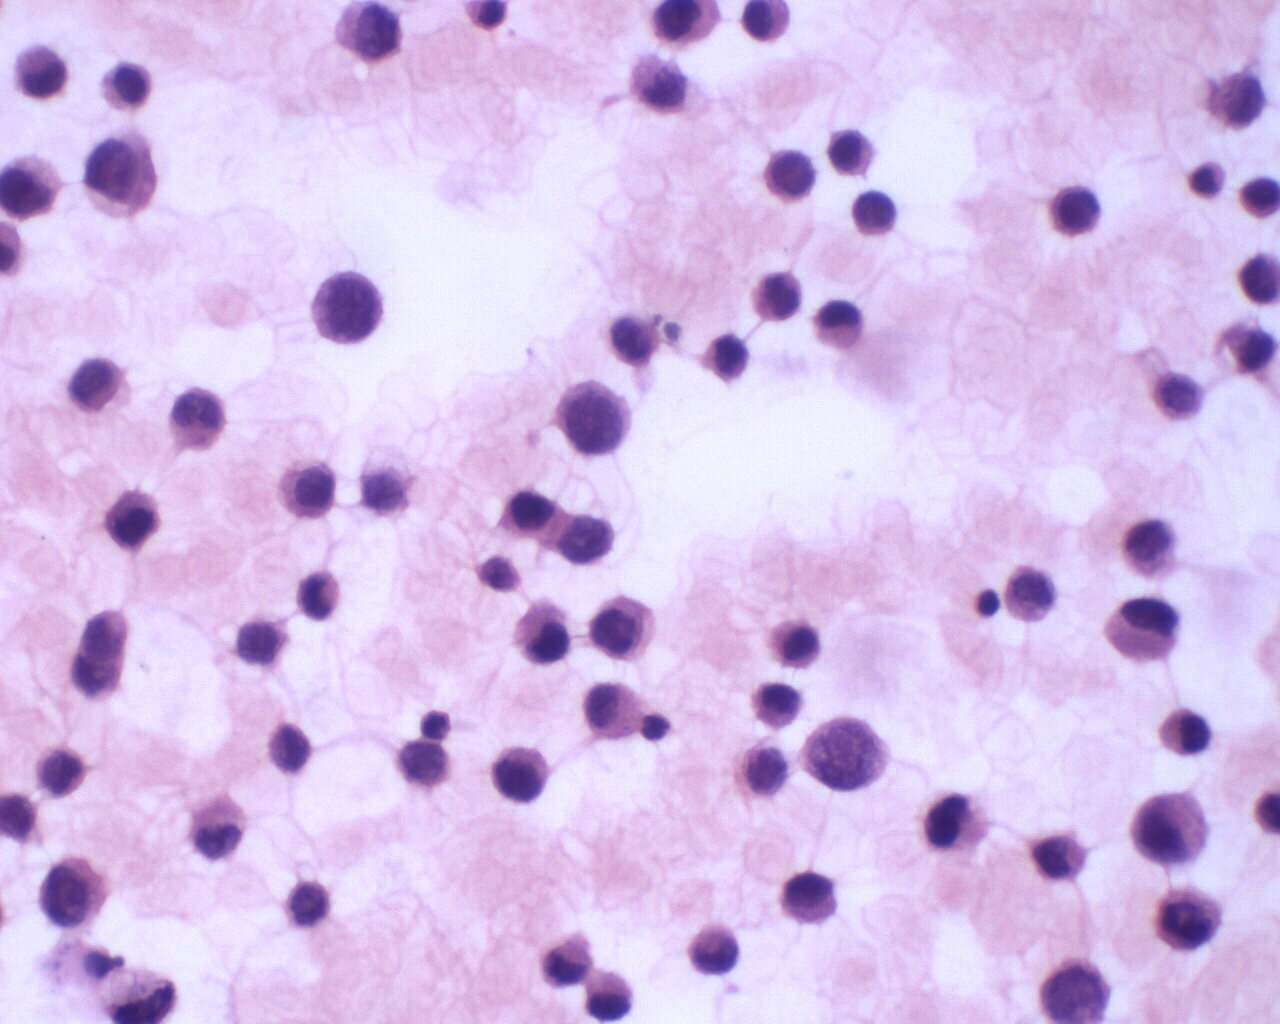ab: (80, 129, 163, 223), (555, 380, 636, 462), (309, 270, 393, 349), (38, 850, 115, 929), (581, 589, 659, 662), (1153, 879, 1225, 954), (488, 741, 557, 812), (328, 2, 405, 65), (168, 385, 233, 456), (1, 153, 63, 225), (98, 485, 163, 553), (276, 453, 339, 522), (775, 865, 843, 927), (65, 355, 132, 415), (1048, 180, 1106, 241), (822, 126, 884, 181), (763, 148, 818, 203), (850, 189, 902, 241)
lymph: (974, 585, 1005, 620)
meso: (582, 678, 644, 746), (809, 296, 871, 351)
